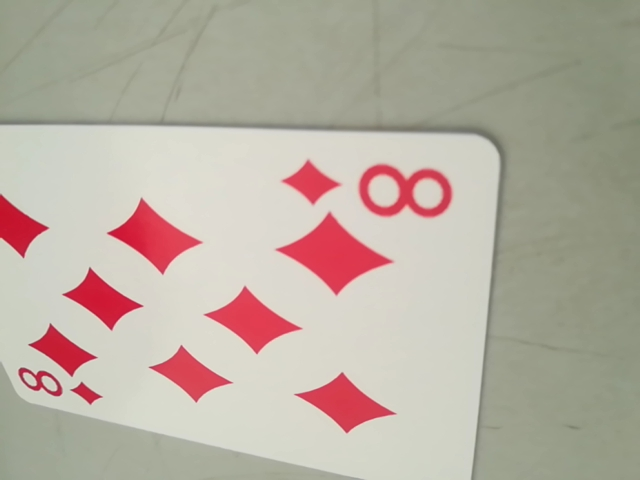fk 8: (285, 155, 455, 225), (11, 366, 102, 411)
